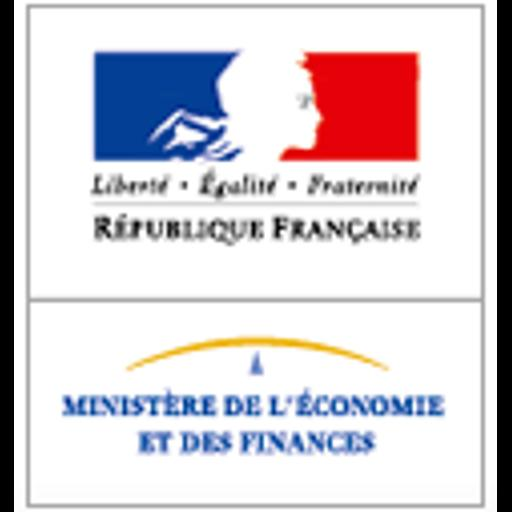DGI -French Tax Authority-: (14, 0, 497, 512)
